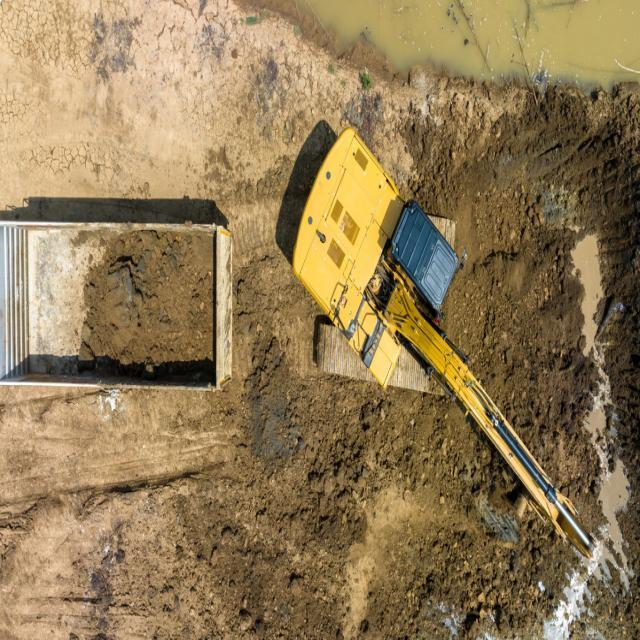excavator: (291, 126, 598, 555)
